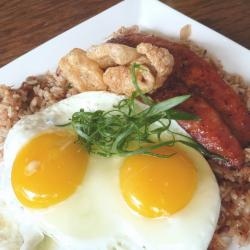omelette: (8, 94, 222, 250)
